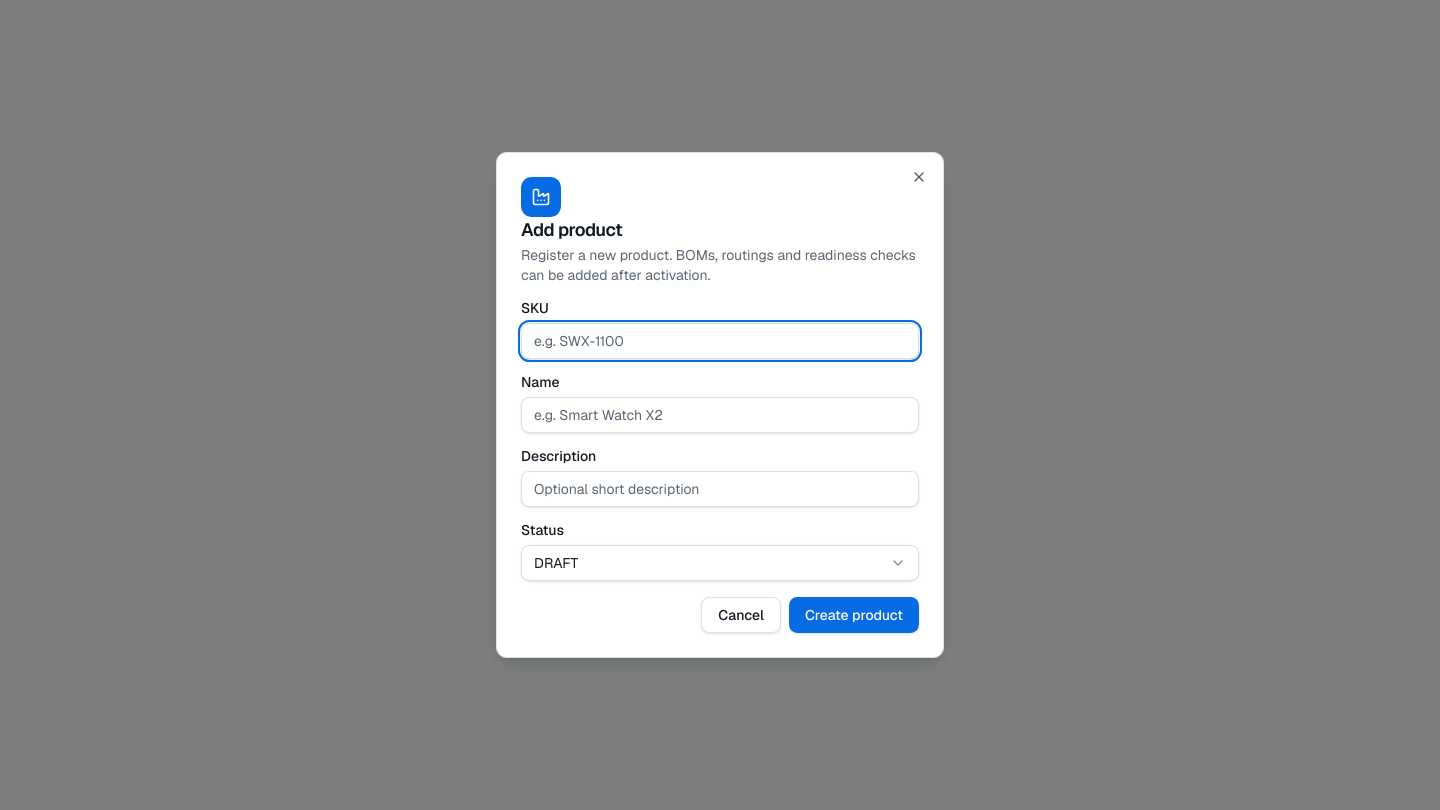
Test: AddProductDialog › shows validation errors for missing required fields and makes no request
Click the button "Create product": (854, 615) [789,597,919,633]
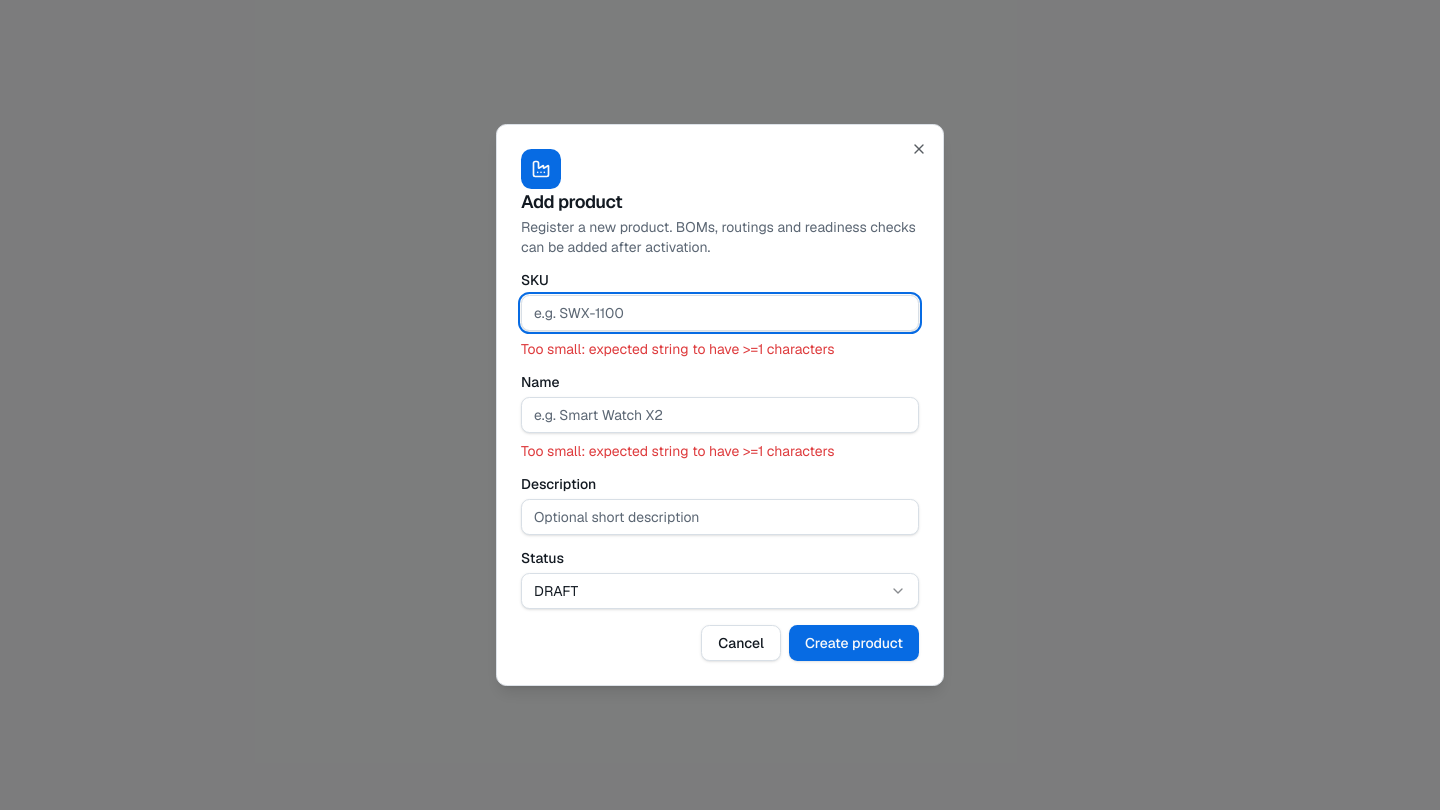
expect the number of messages is 2: met, box [521,340,835,358]; [521,442,835,460]
expect the message "Too small: expected string to have >=1 characters" below "SKU" is shown: met, box [521,340,835,358]
expect the message "Too small: expected string to have >=1 characters" below "Name" is shown: met, box [521,442,835,460]
